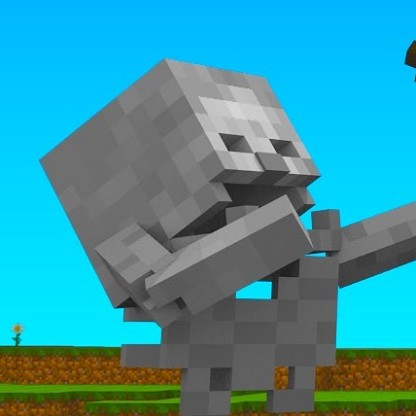skeleton: (35, 49, 388, 370)
